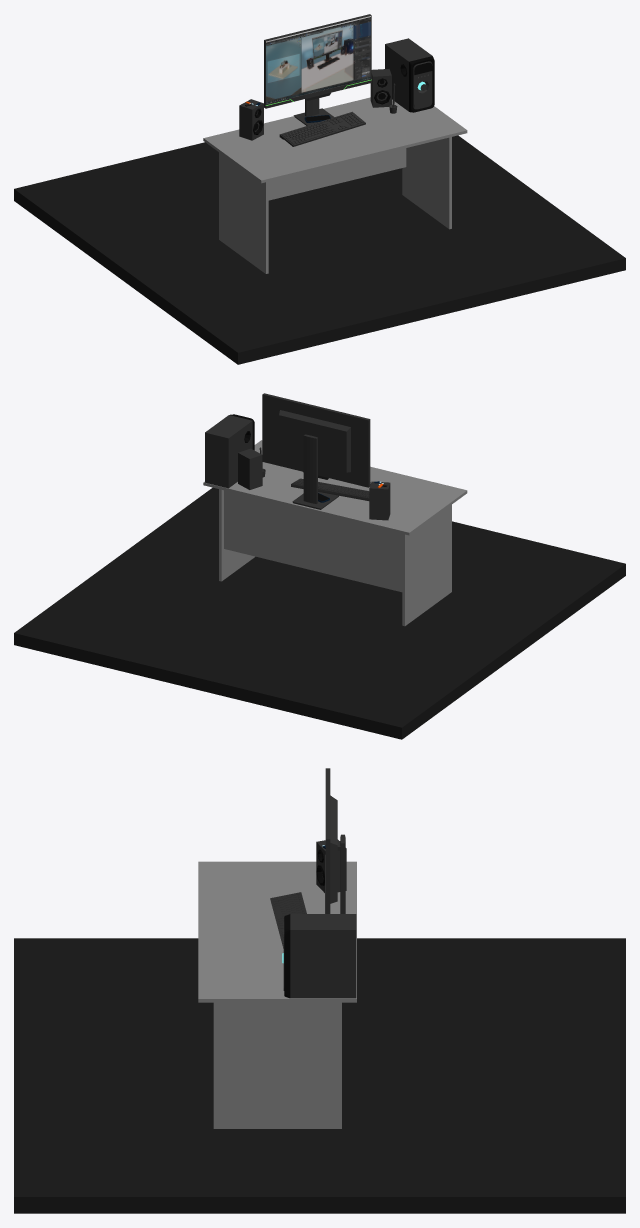
3 renders of one model, top to bottom at view 1: azimuth 30°, elevation 25°; view 2: azimuth 150°, elevation 25°; view 3: azimuth 270°, elevation 25°, orthographic. The views are drawn at different scales.
Parts seen in each view (by area): view 1: Plane_10, Cube.012_0, monitor_12, Cube.017_8, Cube.013_1, keyboard_11; view 2: Plane_10, Cube.012_0, monitor_12, Cube.017_8, Cube.013_1, keyboard_11; view 3: Plane_10, Cube.012_0, Cube.017_8, monitor_12, keyboard_11, Cube.013_1.
Part boxes in pixels (x1=…): Plane_10: x1=14, y1=135, x2=625, y2=364; Cube.012_0: x1=203, y1=97, x2=467, y2=273; monitor_12: x1=264, y1=14, x2=371, y2=125; Cube.017_8: x1=385, y1=38, x2=434, y2=112; Cube.013_1: x1=239, y1=69, x2=391, y2=140; keyboard_11: x1=279, y1=111, x2=365, y2=146; Plane_10: x1=14, y1=487, x2=625, y2=739; Cube.012_0: x1=203, y1=440, x2=467, y2=626; monitor_12: x1=262, y1=393, x2=370, y2=509; Cube.017_8: x1=205, y1=414, x2=254, y2=488; Cube.013_1: x1=238, y1=448, x2=390, y2=520; keyboard_11: x1=291, y1=478, x2=369, y2=500; Plane_10: x1=14, y1=938, x2=625, y2=1213; Cube.012_0: x1=198, y1=861, x2=356, y2=1128; Cube.017_8: x1=282, y1=914, x2=356, y2=998; monitor_12: x1=325, y1=768, x2=345, y2=913; keyboard_11: x1=270, y1=892, x2=306, y2=948; Cube.013_1: x1=316, y1=839, x2=346, y2=892.
Bounding box in the file's own units: 3.2 × 1.62 × 3.2.
Materials: 11 (1 with a texture image).
